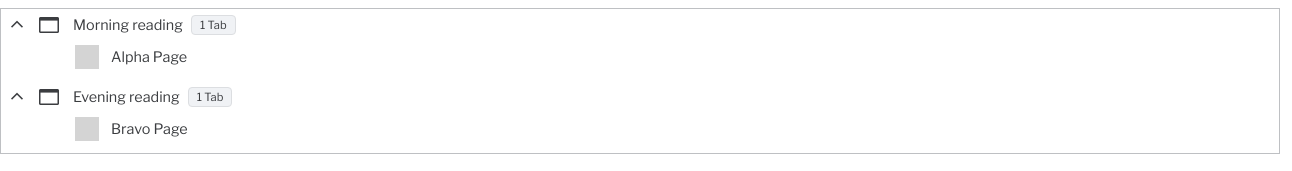
it: a saved window's chevron names its window and its state
expect the button named "Collapse: Evening reading" is shown: met, box left=5, top=82, right=29, bottom=110
Click the button named "Collapse: Morning reading" at (17, 24), box left=5, top=10, right=29, bottom=38
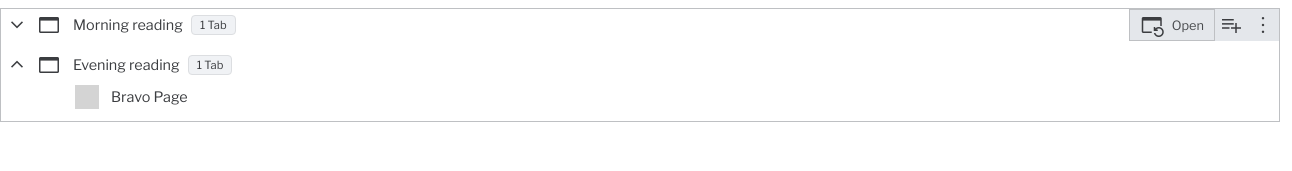
expect the button named "Collapse: Evening reading" is shown: met, box left=5, top=50, right=29, bottom=78
expect the button "Alpha Page" is gone: met
expect the button named "Expand: Morning reading" is shown: met, box left=5, top=11, right=29, bottom=39
